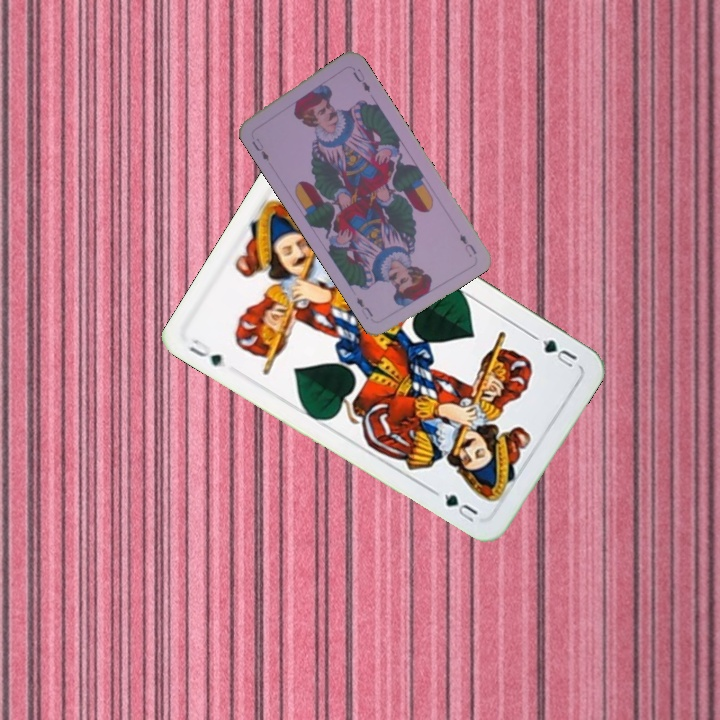EU: (455, 230, 479, 260), (248, 134, 272, 163)
GU: (185, 335, 229, 370), (538, 335, 580, 370)
